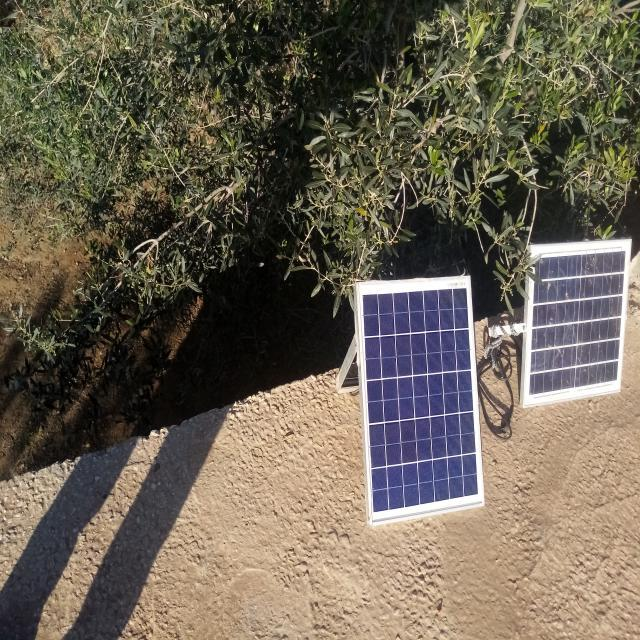faulty: (524, 241, 630, 405)
no faulty: (356, 276, 485, 527)
